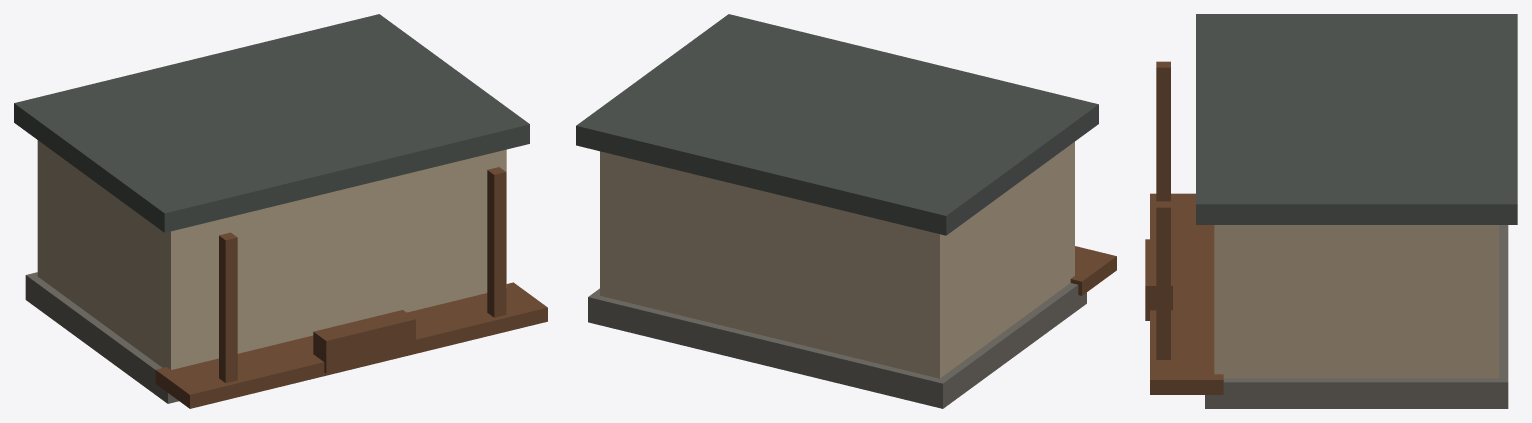
File: WorkerLodge.glb
3 views of the same model, side by side, from view 1: azimuth 30°, elevation 25°; view 2: azimuth 150°, elevation 25°; view 3: azimuth 270°, elevation 25° (orthographic). The views are drawn at different scales.
Visible parts, largest first — view 1: hand-pump-static-lodge-roof, hand-pump-static-lodge-plaster, hand-pump-static-lodge-timber, hand-pump-static-lodge-stone; view 2: hand-pump-static-lodge-plaster, hand-pump-static-lodge-roof, hand-pump-static-lodge-stone, hand-pump-static-lodge-timber; view 3: hand-pump-static-lodge-roof, hand-pump-static-lodge-plaster, hand-pump-static-lodge-timber, hand-pump-static-lodge-stone.
Boxes of the visible parts, <box> form: hand-pump-static-lodge-roof: <box>14,14,529,232</box>; hand-pump-static-lodge-plaster: <box>37,140,506,369</box>; hand-pump-static-lodge-timber: <box>155,167,547,408</box>; hand-pump-static-lodge-stone: <box>25,272,178,403</box>; hand-pump-static-lodge-plaster: <box>600,142,1074,378</box>; hand-pump-static-lodge-roof: <box>576,14,1098,235</box>; hand-pump-static-lodge-stone: <box>588,283,1086,408</box>; hand-pump-static-lodge-timber: <box>1070,246,1116,295</box>; hand-pump-static-lodge-roof: <box>1196,14,1517,224</box>; hand-pump-static-lodge-plaster: <box>1214,225,1499,378</box>; hand-pump-static-lodge-timber: <box>1145,61,1223,394</box>; hand-pump-static-lodge-stone: <box>1205,225,1508,408</box>.
Size of the model in its own units: 4.9 by 2.51 by 4.05.
